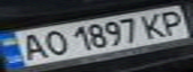1: (69, 24, 90, 52)
7: (118, 15, 142, 43)
8: (84, 20, 109, 50)
9: (103, 18, 127, 47)
A: (12, 30, 51, 62)
K: (136, 10, 172, 39)
O: (36, 28, 72, 57)
P: (154, 8, 190, 36)
